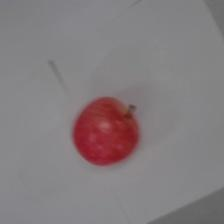red: (71, 94, 141, 167)
